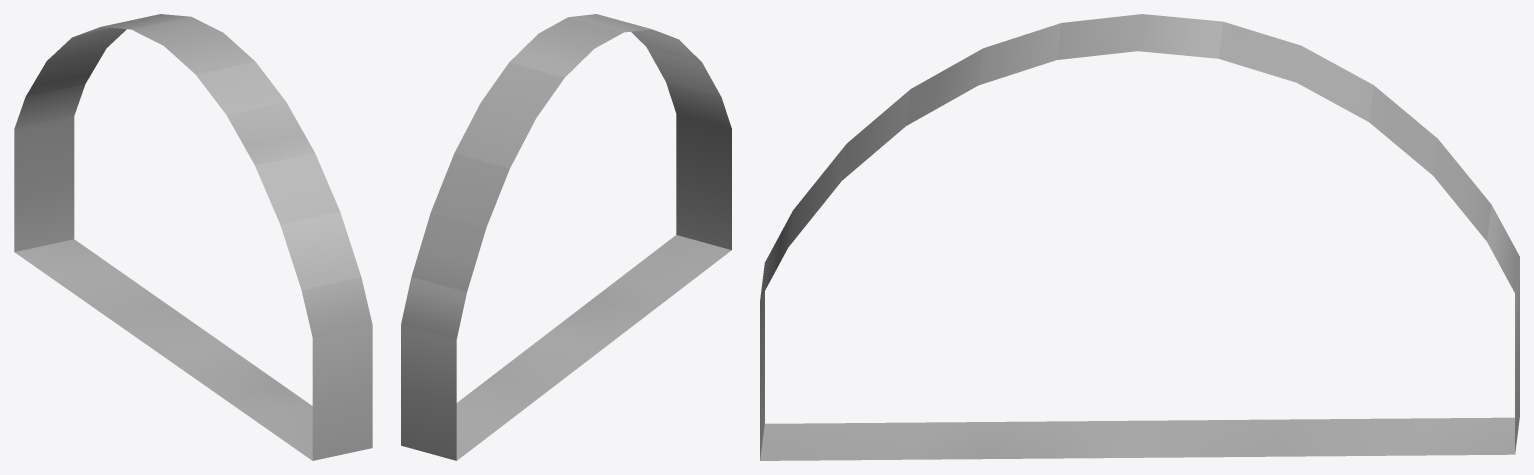
Rendered from original-10.obj.
The picture shows the model from 3 angles, left to right: view 1: azimuth 30°, elevation 25°; view 2: azimuth 150°, elevation 25°; view 3: azimuth 270°, elevation 25°; orthographic projection. The views are drawn at different scales.
Visible parts, largest first — view 1: #ID82; view 2: #ID82; view 3: #ID82.
Boxes of the visible parts, x1,y1,x2,y2 form: #ID82: (14,14,372,460); #ID82: (401,14,731,460); #ID82: (760,14,1519,460).
Bounding box in the file's own units: 0.0115 × 0.0504 × 0.0852.
